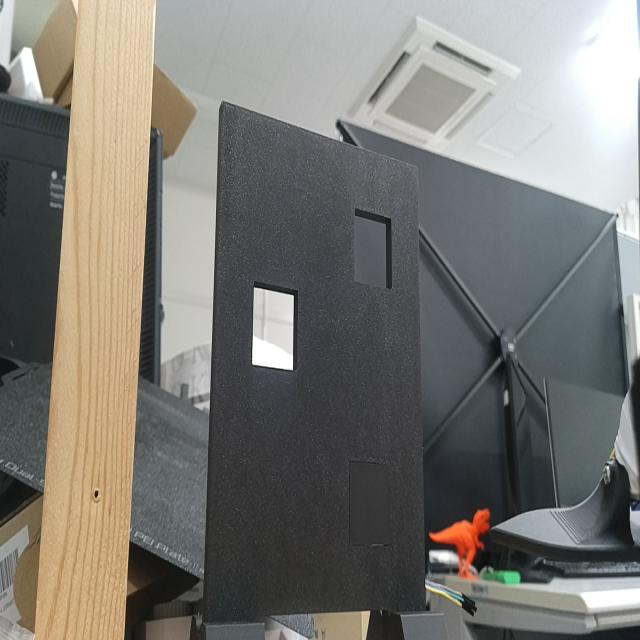Obstacle: (252, 283, 299, 370), (355, 210, 392, 289)
Wall: (206, 103, 425, 618)
